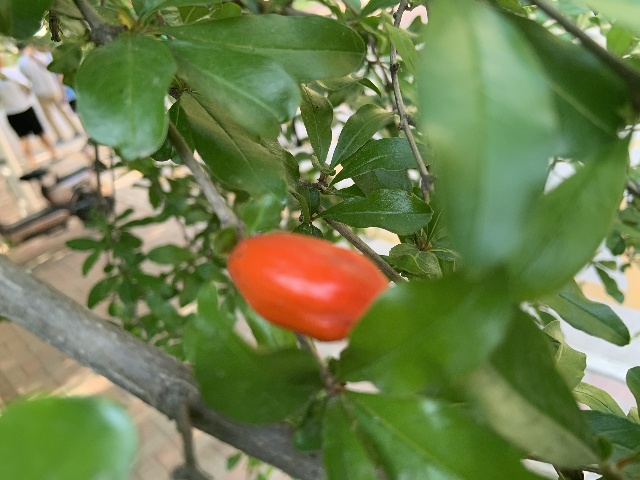bud: (226, 232, 392, 342)
